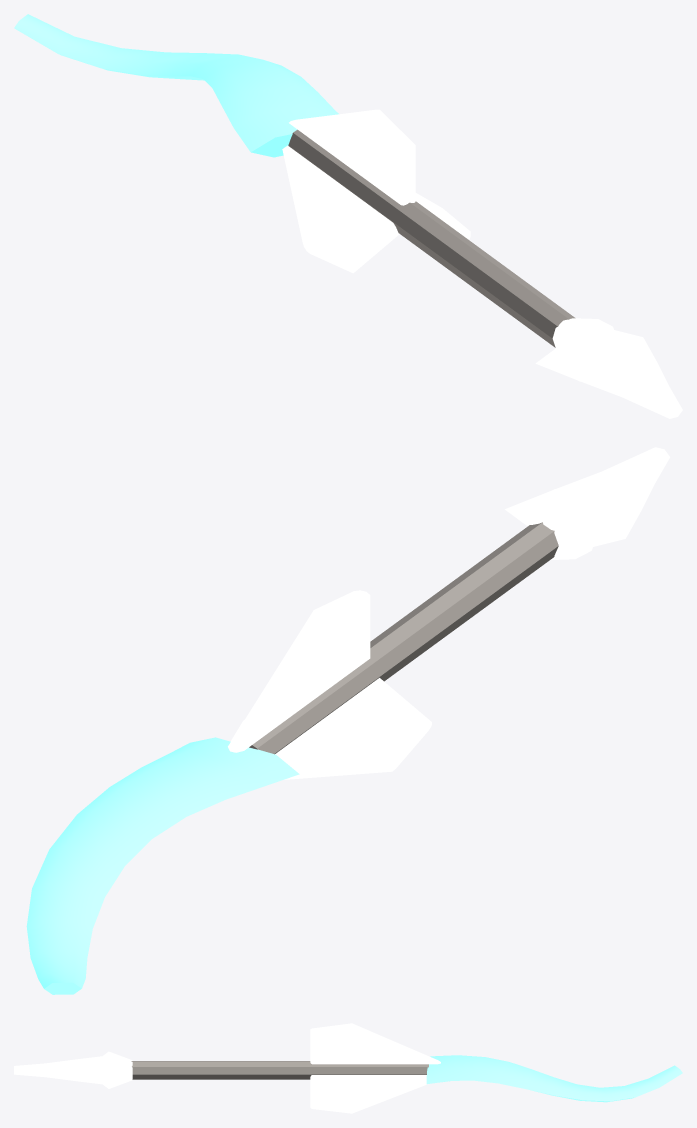
File: vfx-mesh-library-arrow-trail-ribbon-1edeeb40.glb
3 renders of one model, top to bottom at view 1: azimuth 30°, elevation 25°; view 2: azimuth 150°, elevation 25°; view 3: azimuth 270°, elevation 25°, orthographic. The views are drawn at different scales.
Parts seen in each view (by area): view 1: arrow-trail-ribbon; view 2: arrow-trail-ribbon; view 3: arrow-trail-ribbon.
Part boxes in pixels (box(x1,y1,x2,y2)): arrow-trail-ribbon: box(14, 14, 682, 418); arrow-trail-ribbon: box(26, 447, 669, 994); arrow-trail-ribbon: box(14, 1023, 682, 1113).
Size of the model in its own units: 0.1556 by 0.1381 by 1.13.
